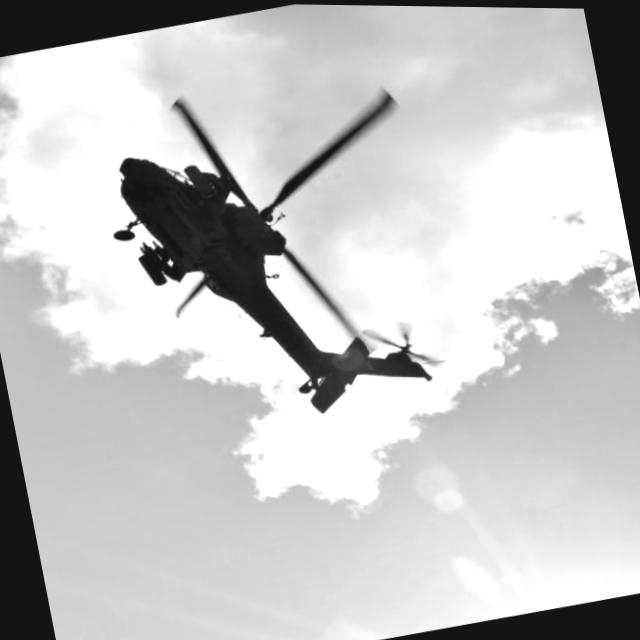helikopter: (76, 30, 464, 449)
